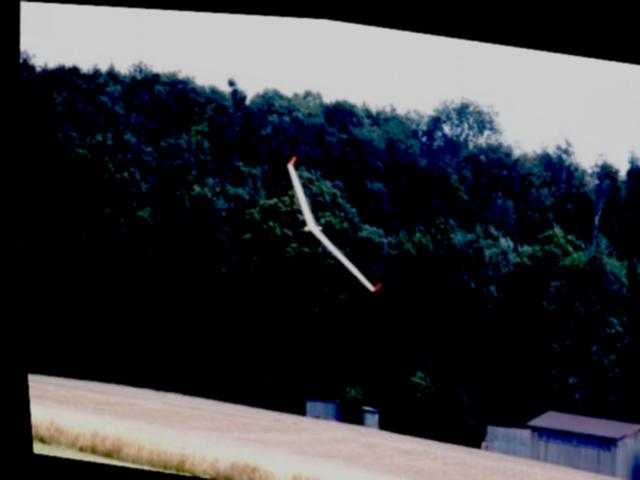flying wing: (268, 147, 389, 292)
